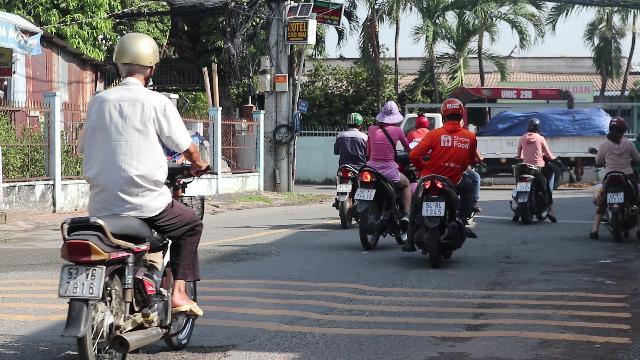helmet: (110, 30, 162, 86), (438, 98, 466, 126), (606, 117, 628, 139), (346, 113, 362, 129), (525, 118, 541, 133)
licenseplate: (59, 266, 105, 298), (422, 202, 446, 216), (354, 188, 376, 199), (607, 193, 623, 203), (336, 184, 352, 192), (517, 183, 531, 192)
motorcyclist: (49, 32, 211, 356), (410, 98, 482, 264), (354, 100, 414, 250), (589, 117, 639, 241), (508, 118, 556, 224), (330, 112, 368, 226)
nohelmet: (375, 100, 403, 126)
